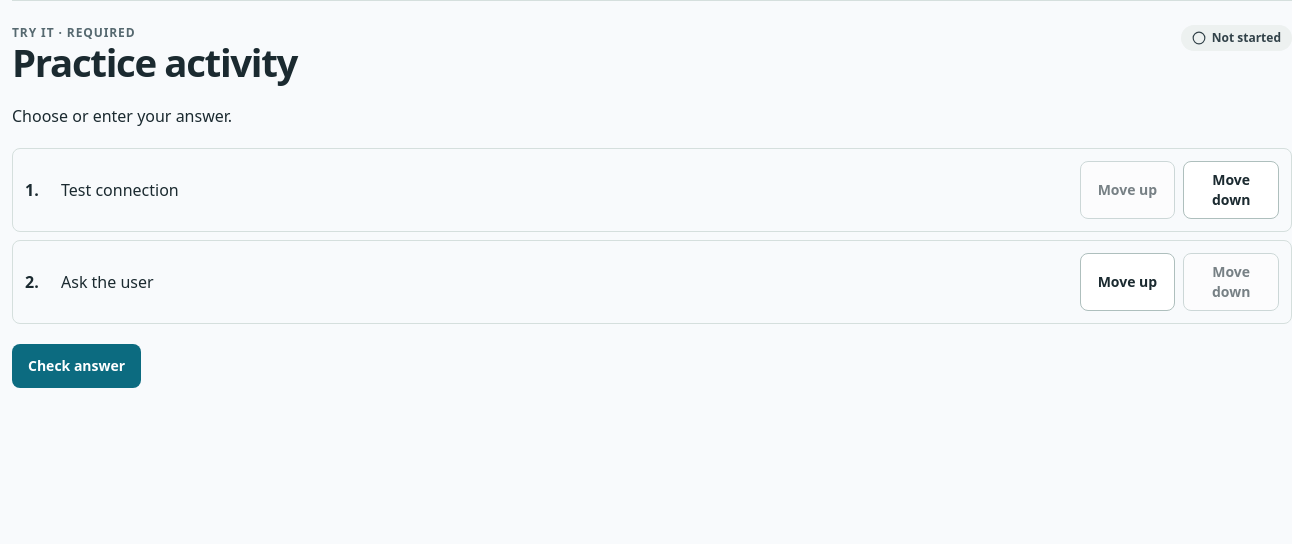
Test: V2Interaction › keeps a failed ordering solution out of the result and allows retry
The image size is (1292, 544).
Expected: the heading "Practice activity" is shown, [12,41,297,84]
Click the button "Check answer": (77, 366) [12,344,141,388]
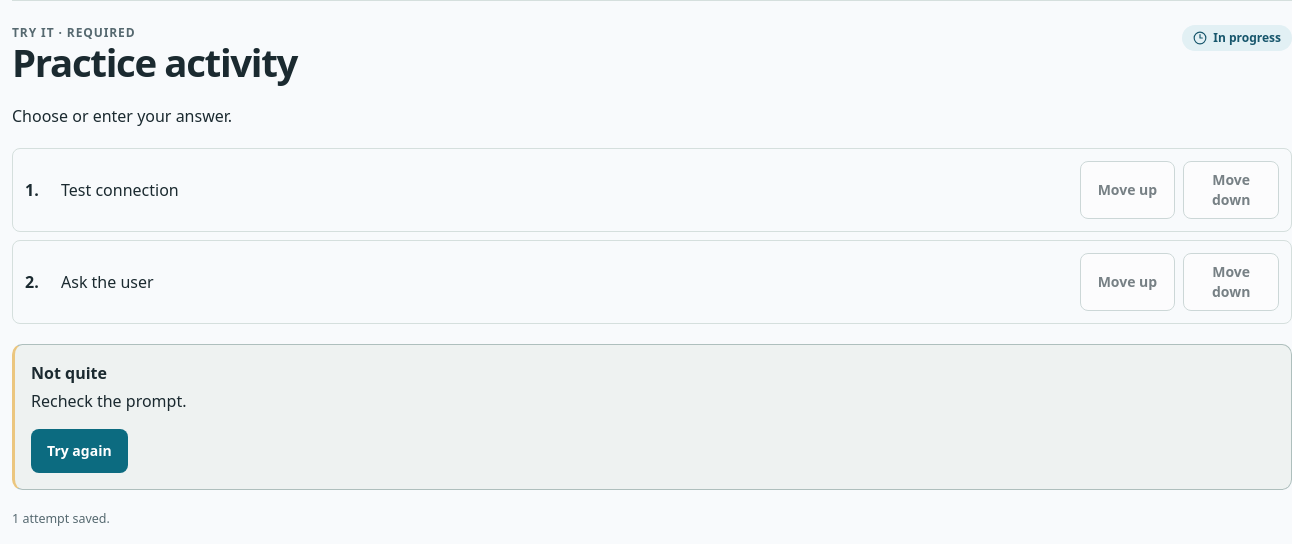
Now the message shows "Not quite", box [31,362,107,384]
Now the message shows "Recheck the prompt.", box [31,390,186,412]
Now the button "Check answer" is gone
Click the button "Try again": (79, 451) [31,429,128,473]
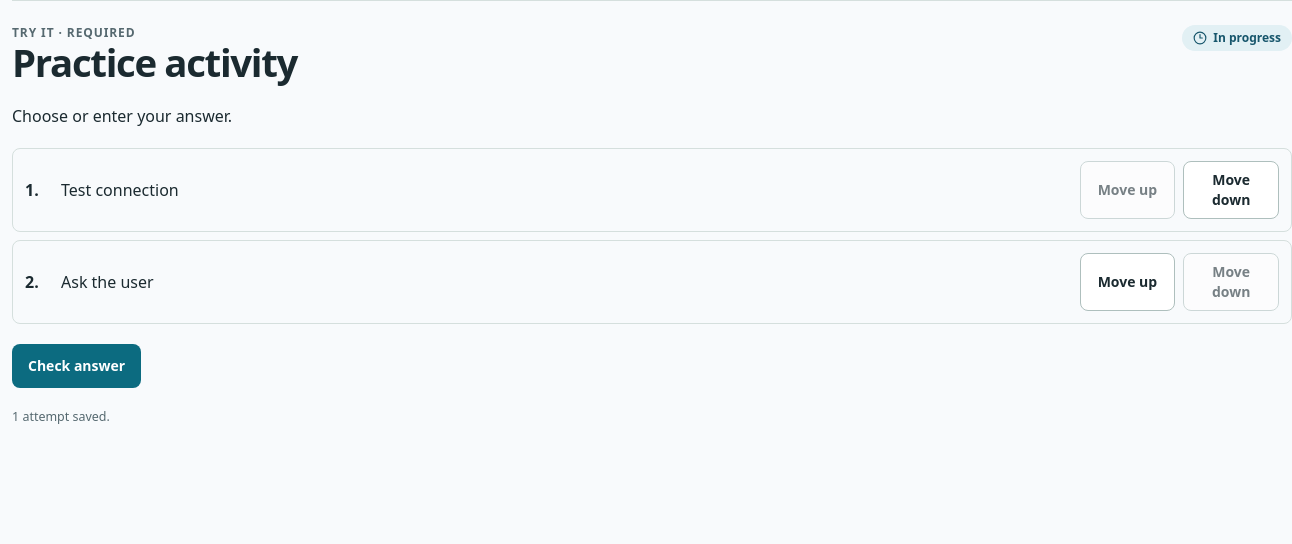
Expected: the button "Check answer" is enabled, [12,344,141,388]
Now the message "Not quite Recheck the prompt. Try again" is gone
